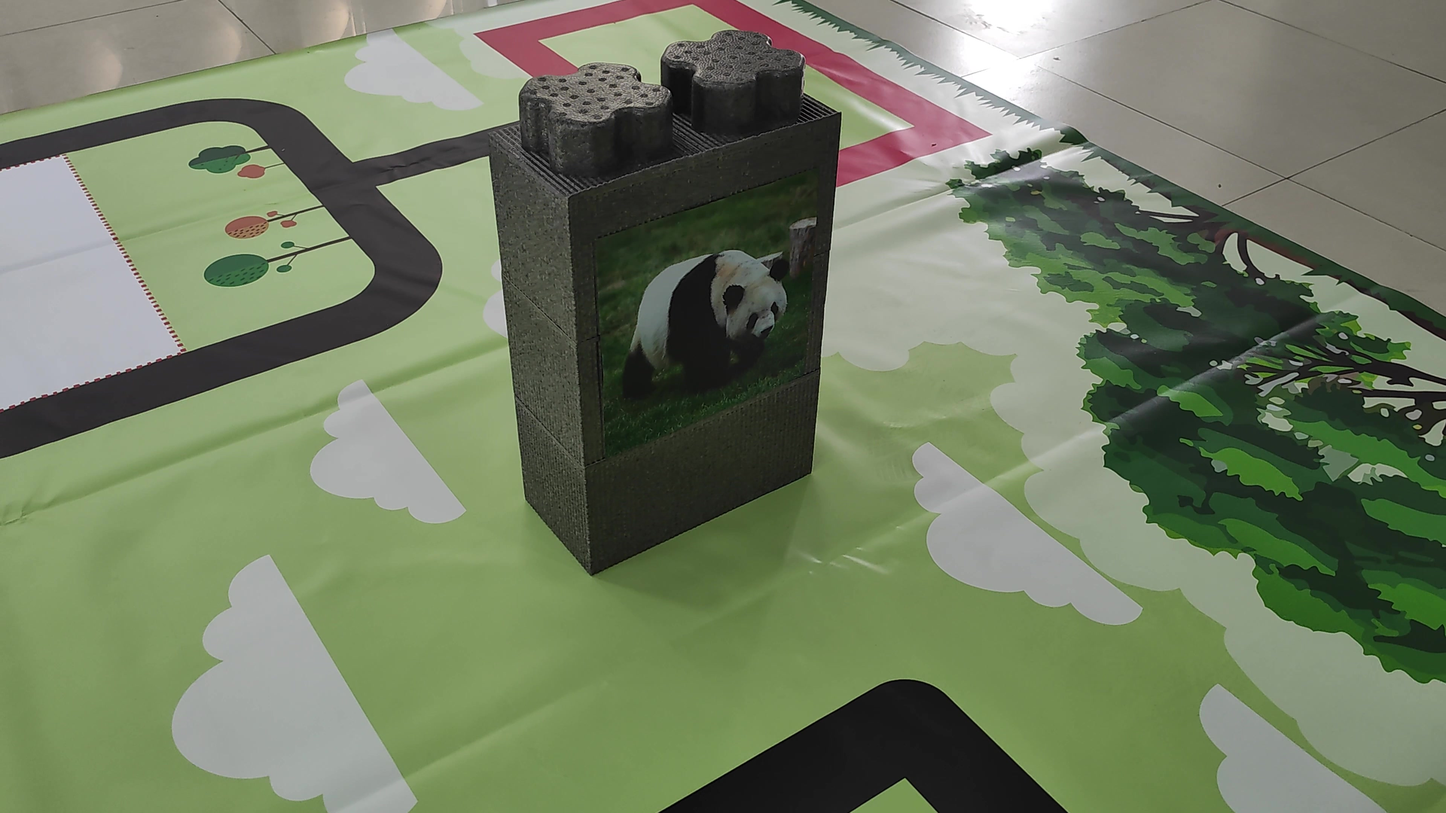panda: (598, 204, 815, 428)
